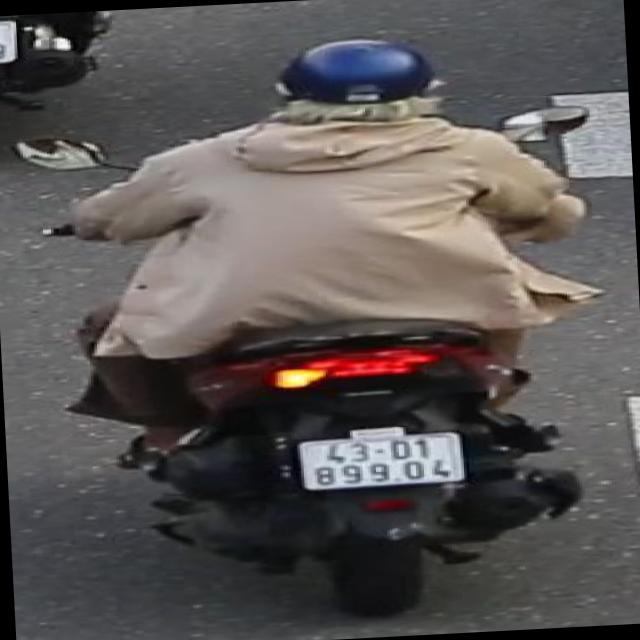LP: (284, 424, 472, 501)
helmet: (241, 28, 468, 147)
